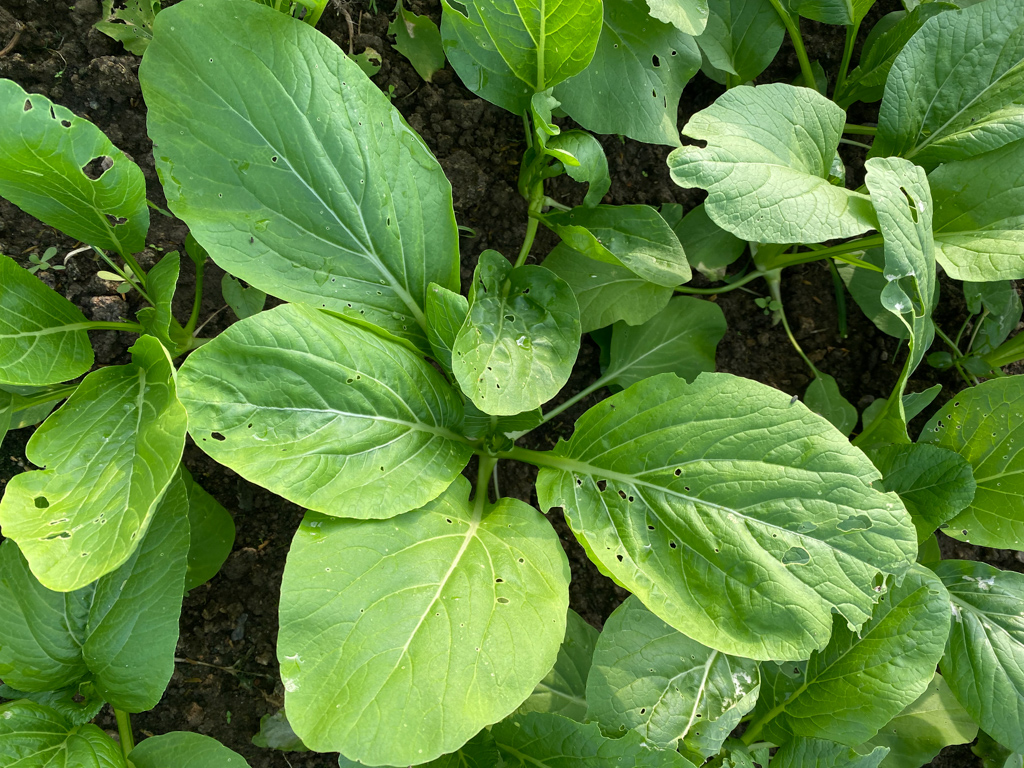Leaf Curl Disease: (509, 84, 580, 225)
